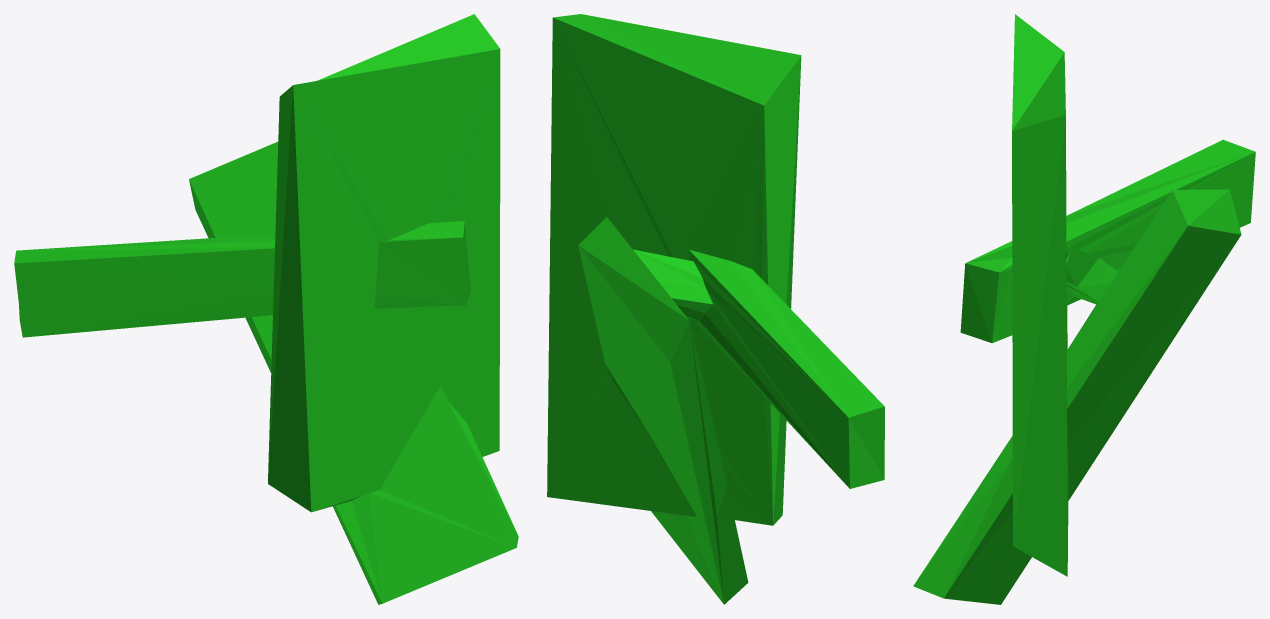
The picture shows the model from 3 angles, left to right: view 1: azimuth 30°, elevation 25°; view 2: azimuth 150°, elevation 25°; view 3: azimuth 270°, elevation 25°; orthographic projection. The views are drawn at different scales.
Visible parts, largest first — view 1: 529_Cube.2133; view 2: 529_Cube.2133; view 3: 529_Cube.2133.
Part boxes in pixels (box(x1,y1,x2,y2)): 529_Cube.2133: box(14, 14, 518, 604); 529_Cube.2133: box(547, 14, 884, 604); 529_Cube.2133: box(913, 14, 1255, 604).
Size of the model in its own units: 11.82 by 15.6 by 8.74.
